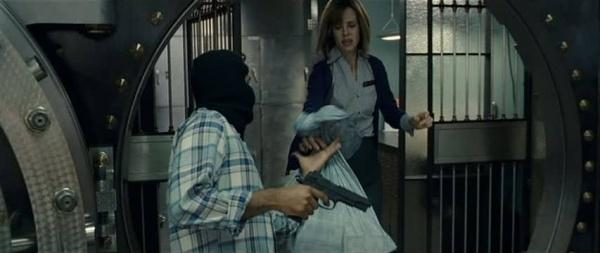Gun: (291, 171, 369, 226)
